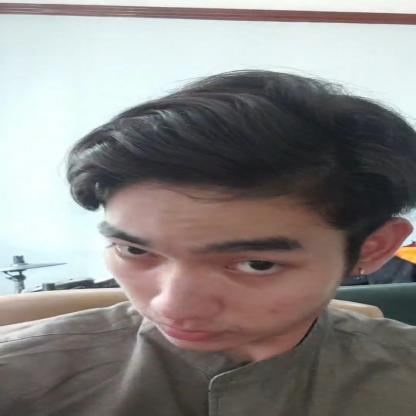Palm: (42, 60, 415, 368)
